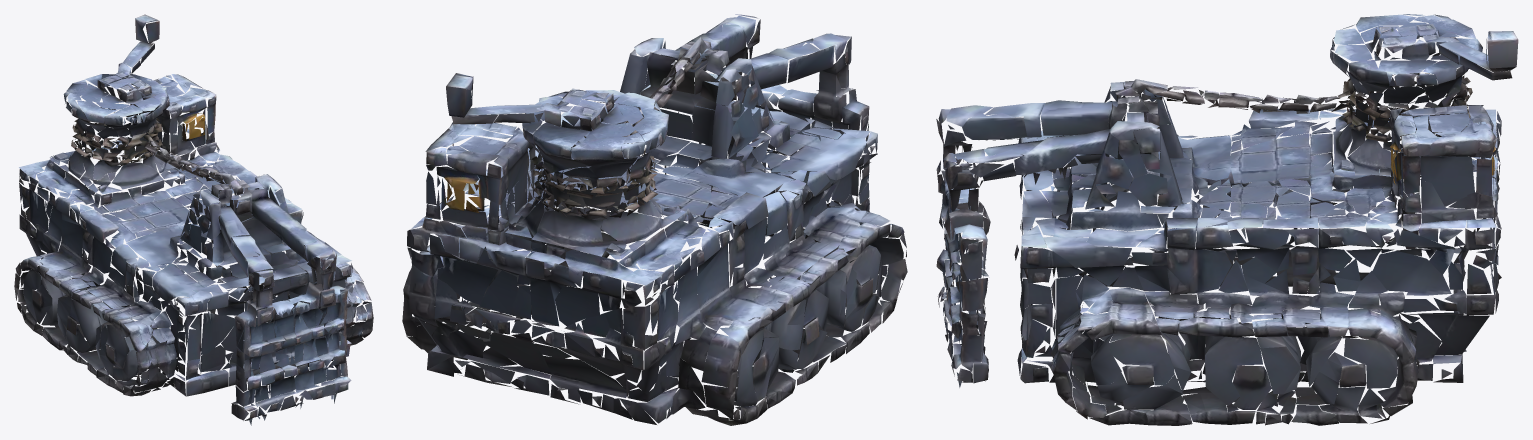
File: sluicekeeper_lo.glb
3 renders of one model, left to right at view 1: azimuth 30°, elevation 25°; view 2: azimuth 150°, elevation 25°; view 3: azimuth 270°, elevation 25°, orthographic. The views are drawn at different scales.
Parts seen in each view (by area): view 1: tripo_node_9f2b2d9d-3e3d-4138-844b-00884477c1e3; view 2: tripo_node_9f2b2d9d-3e3d-4138-844b-00884477c1e3; view 3: tripo_node_9f2b2d9d-3e3d-4138-844b-00884477c1e3.
Part boxes in pixels (x1,y1,x2,y2): tripo_node_9f2b2d9d-3e3d-4138-844b-00884477c1e3: (14,14,373,425); tripo_node_9f2b2d9d-3e3d-4138-844b-00884477c1e3: (402,14,907,425); tripo_node_9f2b2d9d-3e3d-4138-844b-00884477c1e3: (936,14,1518,425).
Size of the model in its own units: 0.656 by 0.6575 by 0.9777.
1 material, 1 textured.
